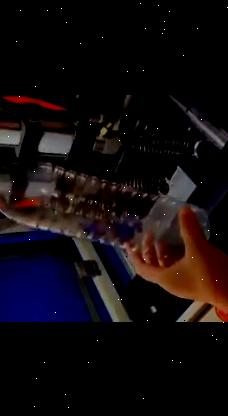Plastic Bottle: (0, 159, 210, 256)
